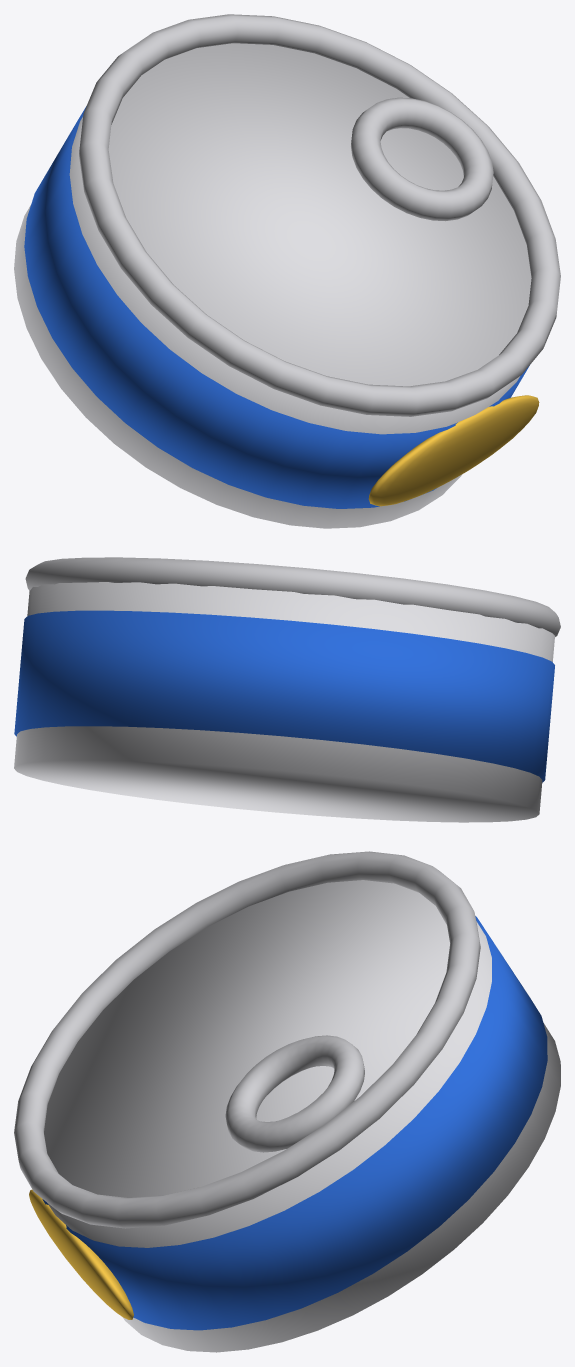
The model's file is fishcan.fbx.
3 renders of one model, top to bottom at view 1: azimuth 30°, elevation 25°; view 2: azimuth 150°, elevation 25°; view 3: azimuth 270°, elevation 25°, orthographic. The views are drawn at different scales.
Parts seen in each view (by area): view 1: FishCan; view 2: FishCan; view 3: FishCan.
Part boxes in pixels (left/top/right/bottom): FishCan: left=14, top=14, right=560, bottom=528; FishCan: left=14, top=557, right=560, bottom=822; FishCan: left=14, top=851, right=560, bottom=1352.
Size of the model in its own units: 0.9925 by 1 by 0.782.
